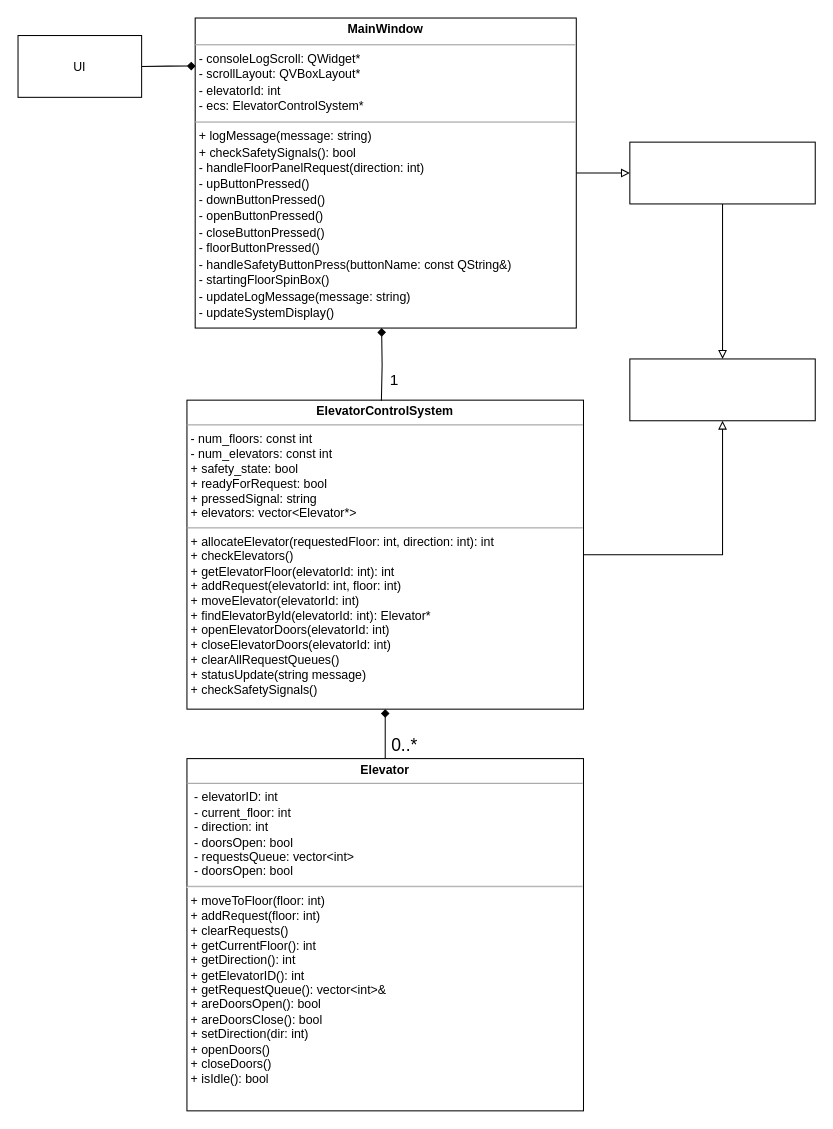
Some shapes in this 833 by 1129 pixel diagram are drawn without their labels. The shapes that lost their labels are listed below. From the top down, each one's centre as x and y in pixels, then its label:
At (x=722, y=172): "QMainWindow".
At (x=722, y=389): "QObject".
